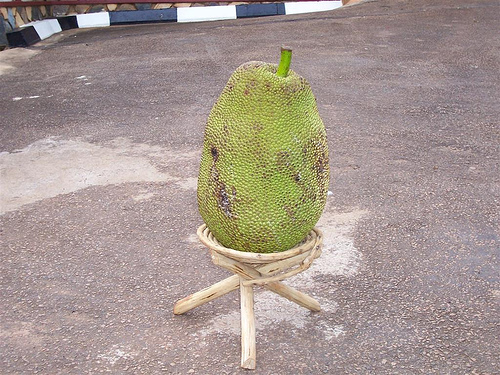jackfruit: (194, 46, 331, 253)
